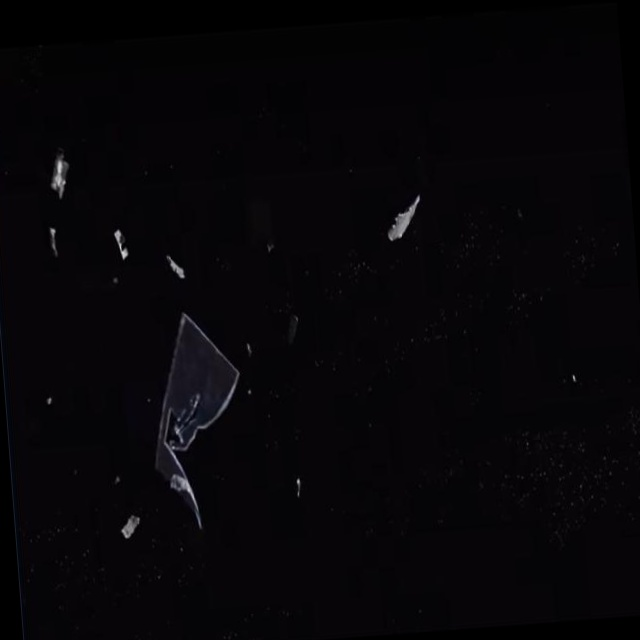large_debris: (136, 304, 263, 532), (373, 182, 428, 273), (149, 234, 188, 285), (99, 206, 129, 269), (47, 153, 73, 212), (119, 503, 141, 546)
